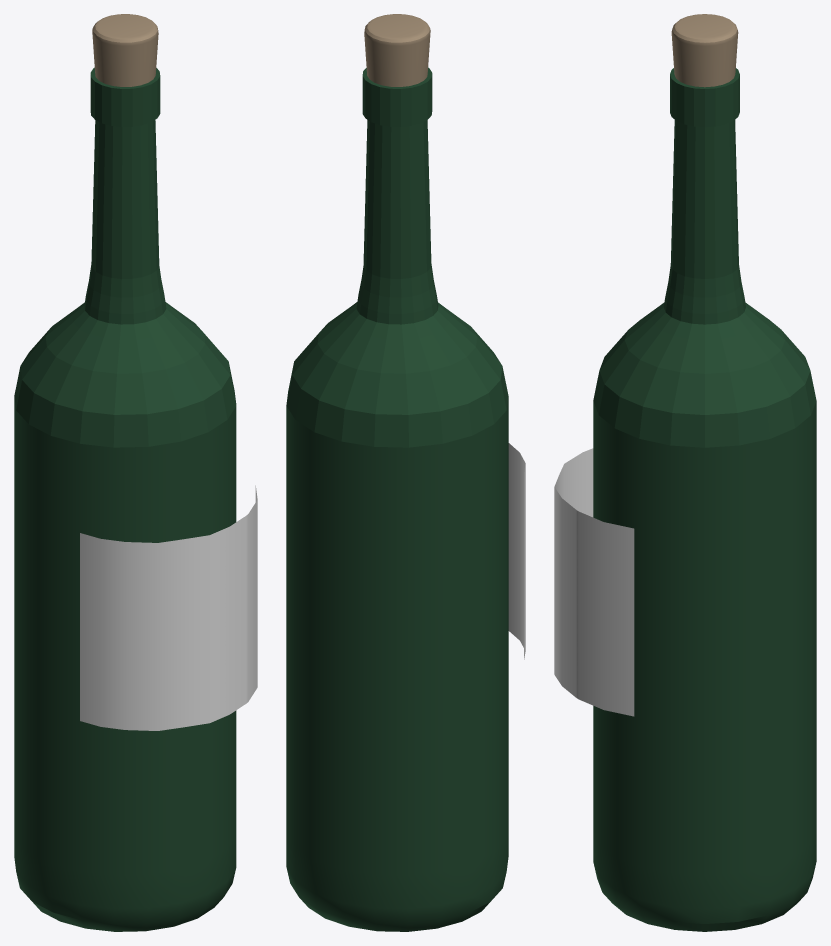
The model's file is Wine.fbx.
The picture shows the model from 3 angles, left to right: view 1: azimuth 30°, elevation 25°; view 2: azimuth 150°, elevation 25°; view 3: azimuth 270°, elevation 25°; orthographic projection.
Parts seen in each view (by area): view 1: Bottle1, Lable2, Cork2; view 2: Bottle1, Cork2, Lable2; view 3: Bottle1, Lable2, Cork2.
Boxes of the visible parts, box(x1,y1,x2,y2) form: Bottle1: box(14, 67, 236, 931); Lable2: box(80, 485, 257, 730); Cork2: box(92, 14, 158, 86); Bottle1: box(286, 67, 508, 931); Cork2: box(364, 14, 430, 86); Lable2: box(508, 443, 525, 659); Bottle1: box(593, 68, 816, 931); Lable2: box(554, 448, 634, 716); Cork2: box(671, 14, 738, 87).
Size of the model in its own units: 1.54 by 6.6 by 1.8.
